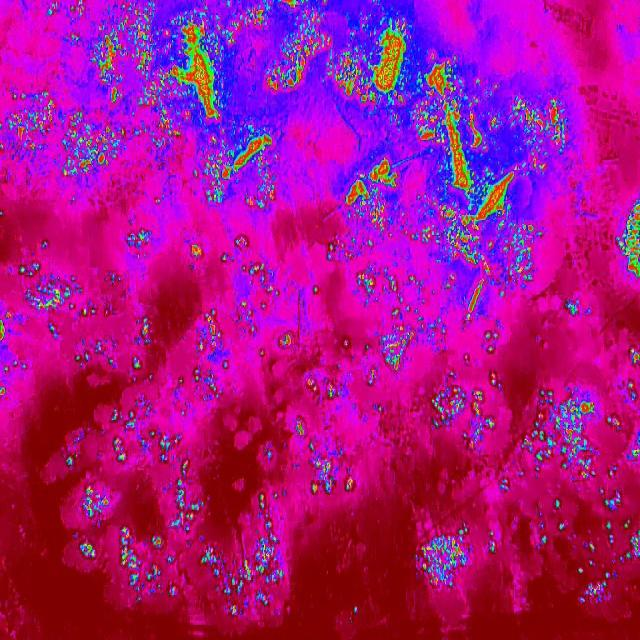fire: (328, 16, 582, 323), (59, 426, 360, 629), (62, 0, 327, 215), (106, 227, 327, 432), (518, 342, 640, 608), (327, 322, 509, 456), (0, 237, 110, 409), (0, 86, 129, 182), (415, 521, 502, 591), (613, 198, 640, 282), (494, 467, 512, 497)
